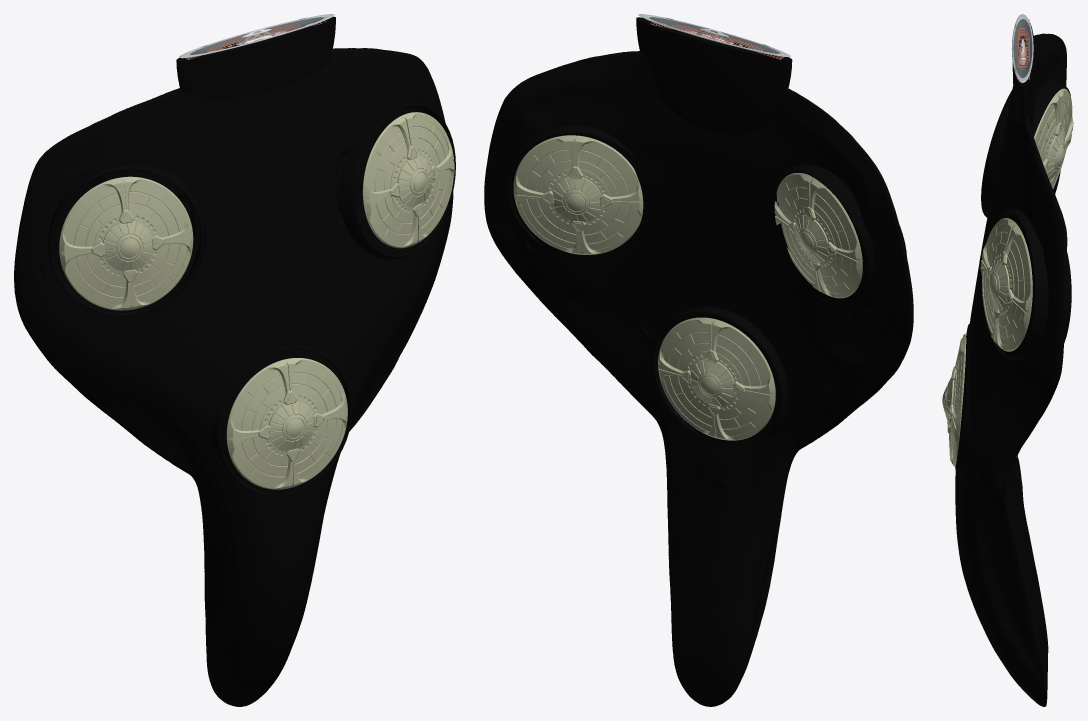
The model's file is sperocal.obj.
The picture shows the model from 3 angles, left to right: view 1: azimuth 30°, elevation 25°; view 2: azimuth 150°, elevation 25°; view 3: azimuth 270°, elevation 25°; orthographic projection. The views are drawn at different scales.
Visible parts, largest first — view 1: obj_1, obj_4, obj_2, obj_3, obj_0, obj_10; view 2: obj_1, obj_6, obj_0, obj_5, obj_7, obj_10; view 3: obj_1, obj_3, obj_7, obj_2, obj_10, obj_0.
Boxes of the visible parts, x1,y1,x2,y2 form: obj_1: [14, 48, 455, 706]; obj_4: [59, 176, 193, 310]; obj_2: [226, 358, 347, 489]; obj_3: [362, 112, 454, 248]; obj_0: [176, 16, 335, 98]; obj_10: [178, 14, 334, 58]; obj_1: [484, 51, 913, 706]; obj_6: [513, 135, 643, 254]; obj_0: [636, 17, 792, 134]; obj_5: [658, 317, 775, 440]; obj_7: [774, 173, 862, 298]; obj_10: [638, 14, 790, 56]; obj_1: [955, 33, 1071, 706]; obj_3: [980, 218, 1032, 351]; obj_7: [1034, 88, 1073, 189]; obj_2: [942, 333, 966, 466]; obj_10: [1011, 14, 1033, 82]; obj_0: [1012, 23, 1034, 127].
Size of the model in its own units: 442 by 658 by 118.
